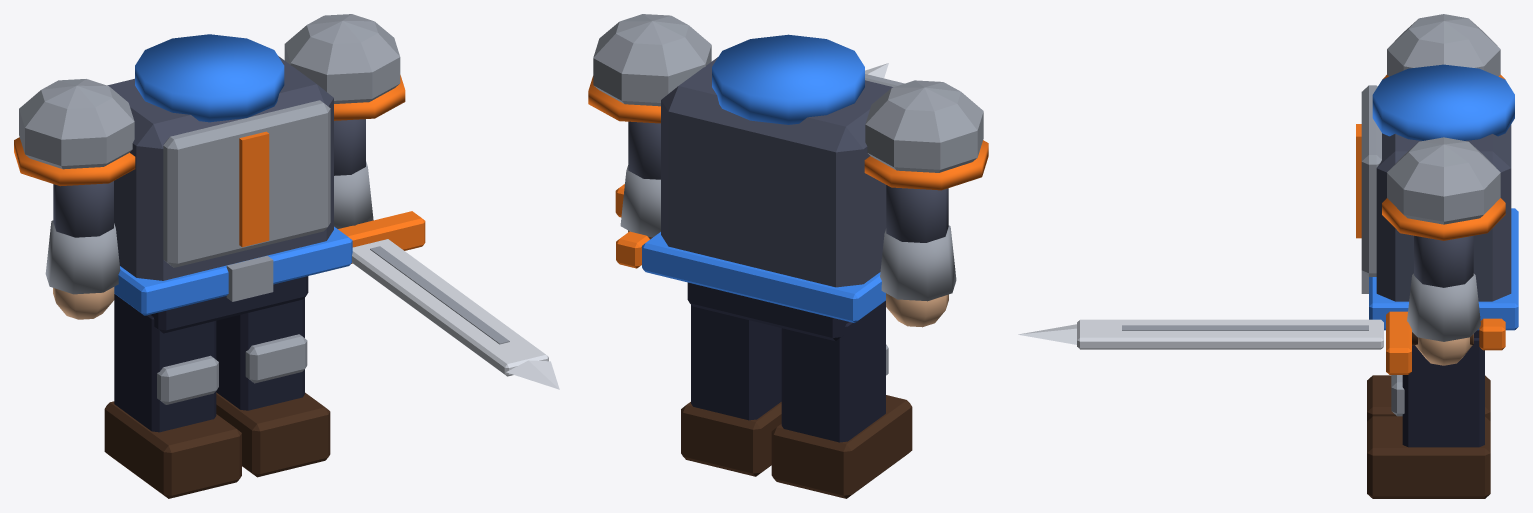
Rendered from valere.glb.
3 views of the same model, side by side, from view 1: azimuth 30°, elevation 25°; view 2: azimuth 150°, elevation 25°; view 3: azimuth 270°, elevation 25° (orthographic). The views are drawn at different scales.
Visible parts, largest first — view 1: chestplate, torso, collar, pauldron_L, boot_L, thigh_L, pauldron_R, blade, boot_R, belt, thigh_R, gauntlet_L (+14 smaller); view 2: torso, thigh_L, collar, pauldron_L, thigh_R, boot_L, pauldron_R, belt, boot_R, gauntlet_L, hips, upperarm_L (+6 smaller); view 3: collar, torso, blade, pauldron_R, boot_R, thigh_R, pauldron_L, gauntlet_R, chestplate, upperarm_R, belt, pauldron_trim_R (+7 smaller).
Boxes of the visible parts, left/top/right/bottom form: chestplate: left=163, top=100, right=330, bottom=267; torso: left=107, top=56, right=333, bottom=280; collar: left=135, top=34, right=284, bottom=122; pauldron_L: left=19, top=79, right=134, bottom=169; boot_L: left=104, top=401, right=241, bottom=498; thigh_L: left=114, top=294, right=216, bottom=432; pauldron_R: left=284, top=14, right=400, bottom=103; blade: left=352, top=239, right=548, bottom=376; boot_R: left=216, top=392, right=330, bottom=477; belt: left=114, top=226, right=352, bottom=315; thigh_R: left=216, top=298, right=304, bottom=410; gauntlet_L: left=45, top=220, right=120, bottom=294; torso: left=661, top=57, right=892, bottom=287; thigh_L: left=781, top=301, right=885, bottom=442; collar: left=712, top=34, right=864, bottom=124; pauldron_L: left=865, top=80, right=983, bottom=172; thigh_R: left=691, top=305, right=781, bottom=420; boot_L: left=771, top=395, right=912, bottom=498; pauldron_R: left=593, top=14, right=711, bottom=106; belt: left=642, top=232, right=885, bottom=322; boot_R: left=681, top=402, right=781, bottom=476; gauntlet_L: left=880, top=225, right=956, bottom=301; hips: left=687, top=282, right=848, bottom=341; upperarm_L: left=886, top=185, right=948, bottom=242; collar: left=1372, top=64, right=1514, bottom=140; torso: left=1376, top=124, right=1511, bottom=301; blade: left=1077, top=319, right=1383, bottom=349; pauldron_R: left=1387, top=137, right=1500, bottom=224; boot_R: left=1367, top=416, right=1490, bottom=498; thigh_R: left=1402, top=338, right=1484, bottom=447; pauldron_L: left=1387, top=14, right=1500, bottom=76; gauntlet_R: left=1407, top=273, right=1480, bottom=341; chestplate: left=1361, top=85, right=1381, bottom=276; upperarm_R: left=1414, top=235, right=1473, bottom=287; belt: left=1369, top=208, right=1518, bottom=330; pauldron_trim_R: left=1382, top=198, right=1505, bottom=240.
Size of the model in its own units: 1.11 by 1.12 by 1.34.
